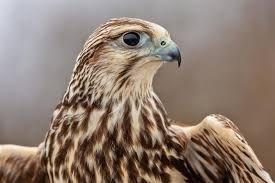Pengoyak Daging: (158, 37, 190, 73)
